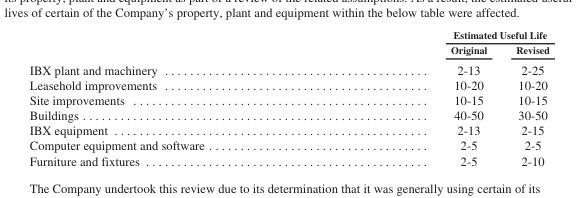table: (28, 28, 548, 167)
table column: (28, 28, 326, 167), (326, 28, 500, 167), (500, 28, 548, 167)
table column header: (28, 28, 548, 59)
table row: (28, 42, 548, 59), (28, 59, 548, 76), (28, 76, 548, 92), (28, 92, 548, 107), (28, 107, 548, 122), (28, 122, 548, 137), (28, 137, 548, 152), (28, 152, 548, 167), (28, 28, 548, 42)
table spanning cell: (326, 28, 548, 42)
